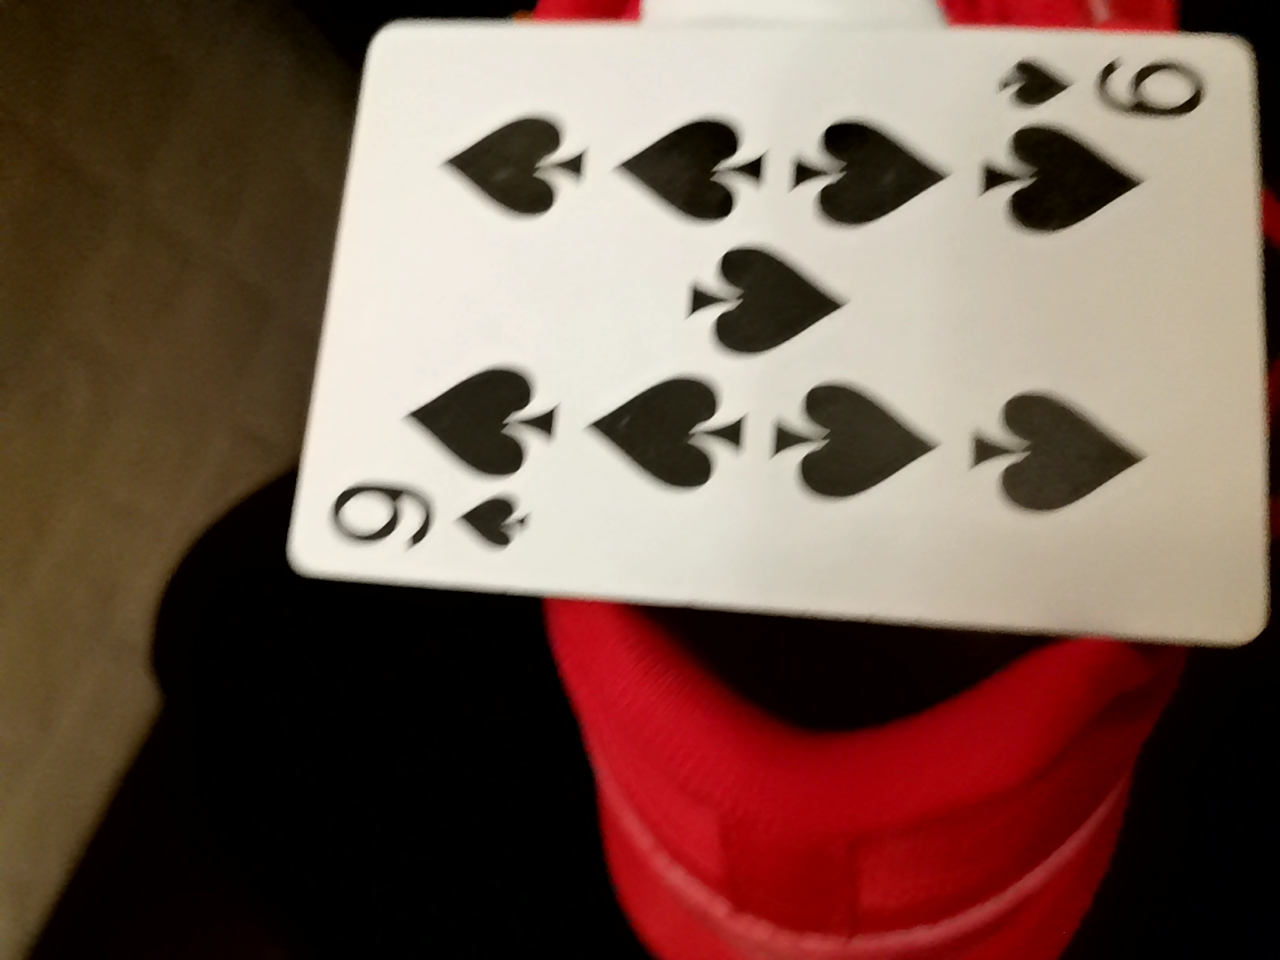ht 9: (348, 8, 1269, 490)
